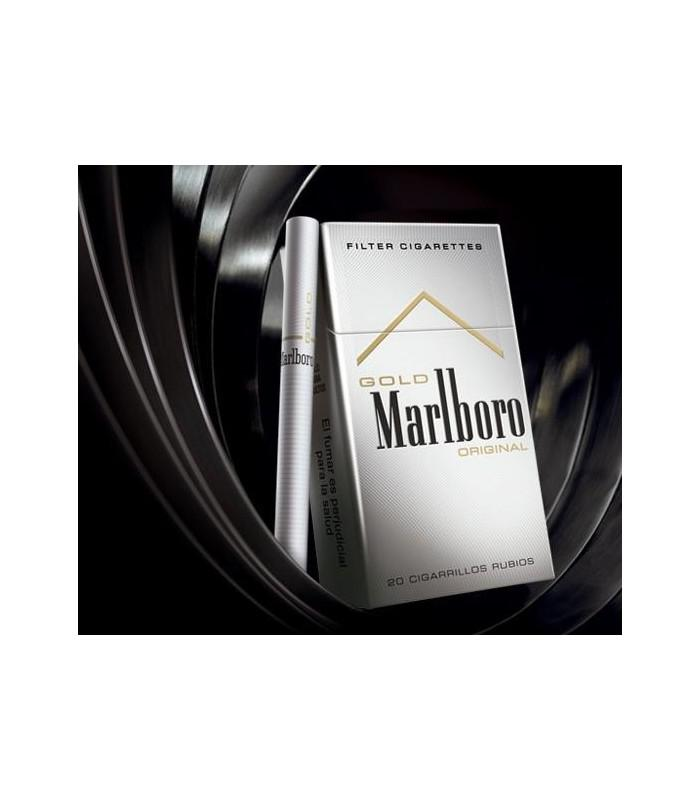marlboro_gold: (335, 222, 520, 589)
